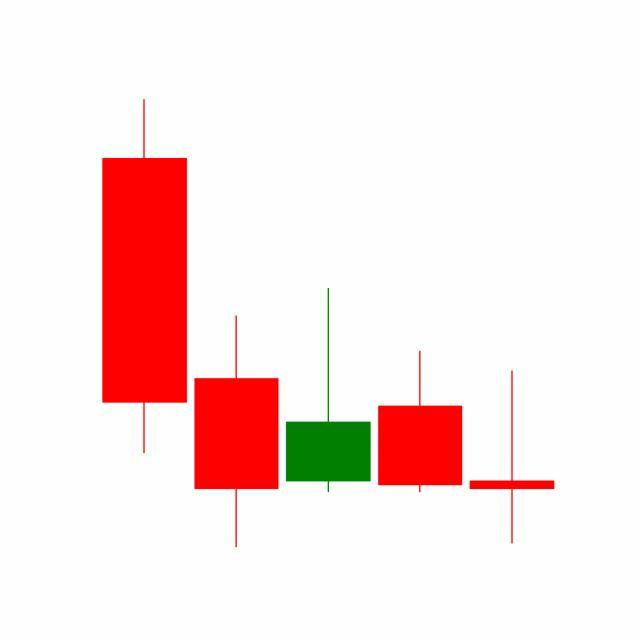Three Outside Up-Down: (280, 285, 555, 547)
